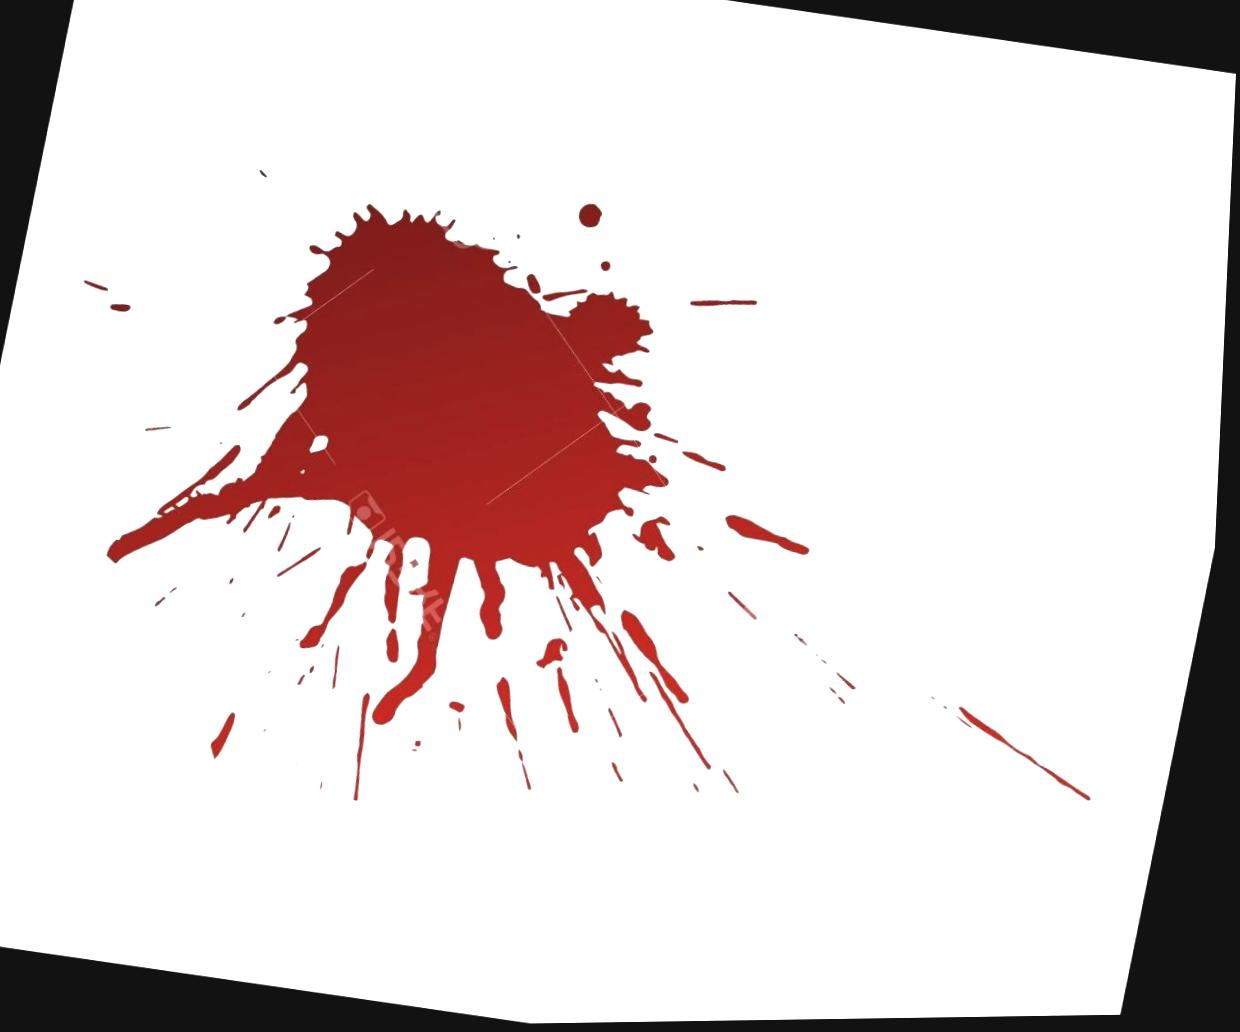Fire: (110, 205, 674, 727)
